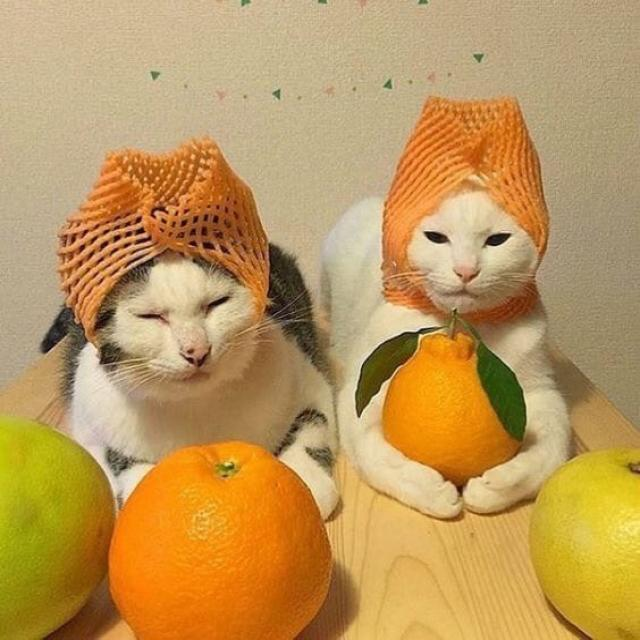Cats: (80, 186, 354, 515), (344, 149, 573, 521)
